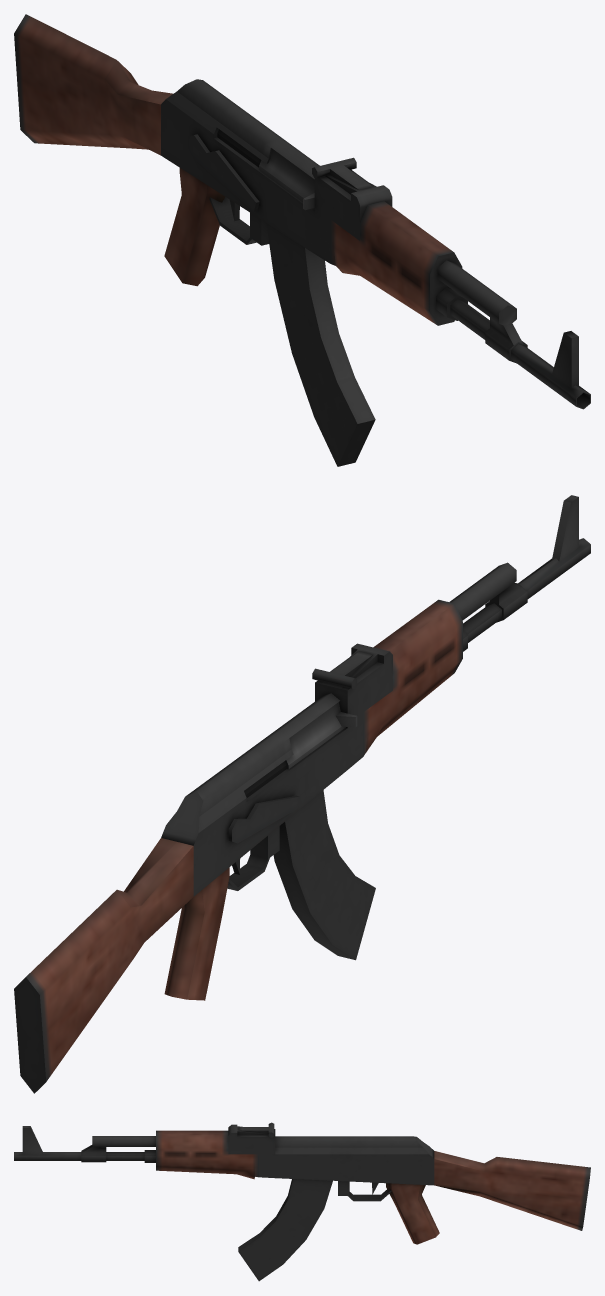
3 renders of one model, top to bottom at view 1: azimuth 30°, elevation 25°; view 2: azimuth 150°, elevation 25°; view 3: azimuth 270°, elevation 25°, orthographic. The views are drawn at different scales.
Parts seen in each view (by area): view 1: AK47; view 2: AK47; view 3: AK47.
Boxes of the visible parts, x1,y1,x2,y2 form: AK47: [14, 14, 590, 466]; AK47: [14, 495, 590, 1093]; AK47: [14, 1122, 590, 1281].
Size of the model in its own units: 4.57 by 28.25 by 96.96.
